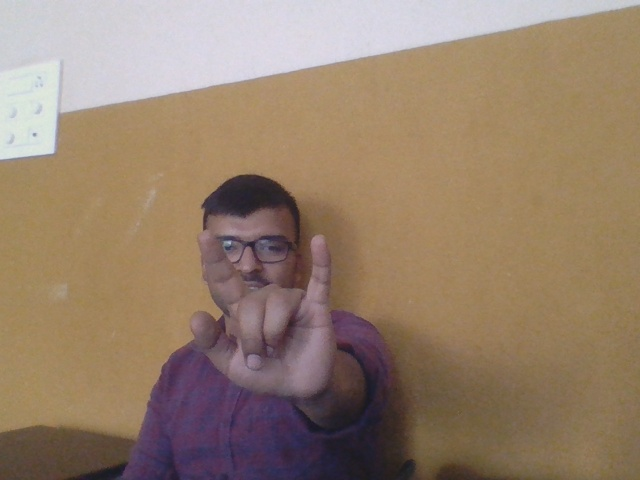I Love You: (176, 227, 353, 395)
